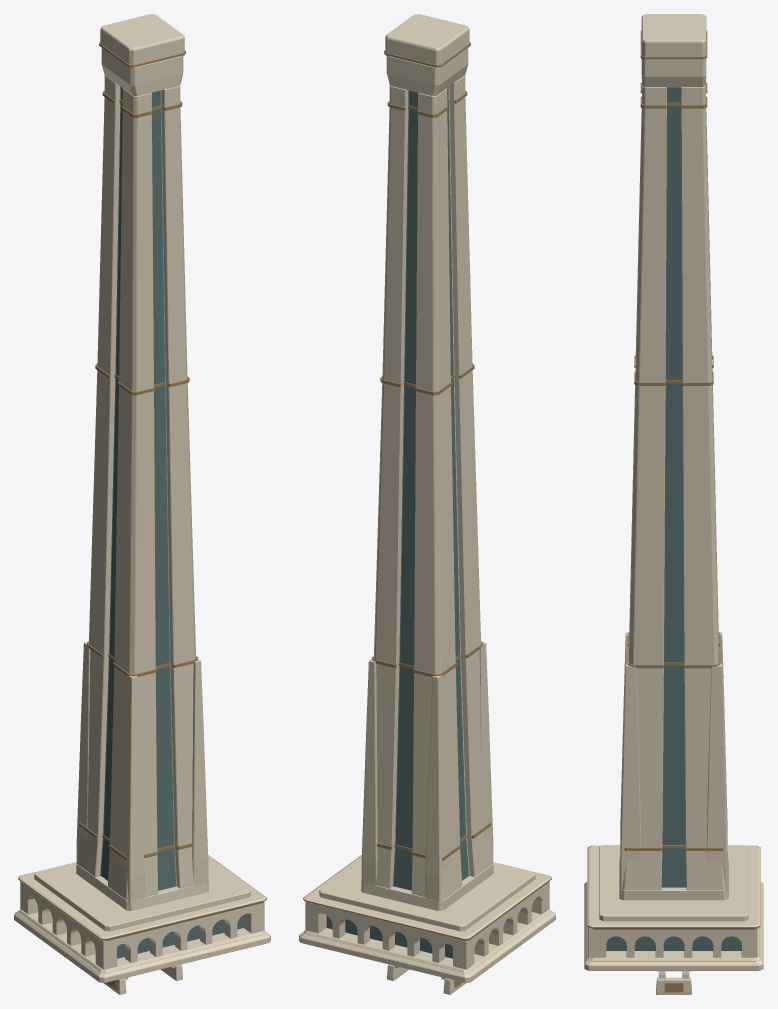
File: sunvault-civic-works.glb
3 renders of one model, left to right at view 1: azimuth 30°, elevation 25°; view 2: azimuth 150°, elevation 25°; view 3: azimuth 270°, elevation 25°, orthographic.
Parts seen in each view (by area): view 1: anchor_pier__WarmLimestone, arrival_terrace__WarmLimestone, anchor_pier__coolrecess, anchor_pier__agedbronze, arrival_terrace__coolrecess; view 2: anchor_pier__WarmLimestone, arrival_terrace__WarmLimestone, anchor_pier__coolrecess, anchor_pier__agedbronze, arrival_terrace__coolrecess; view 3: anchor_pier__WarmLimestone, arrival_terrace__WarmLimestone, anchor_pier__coolrecess, anchor_pier__agedbronze, arrival_terrace__coolrecess, load_cradle__WarmLimestone, arrival_terrace__agedbronze.
Part boxes in pixels (x1,y1,x2,y2): anchor_pier__WarmLimestone: (76,14,208,910); arrival_terrace__WarmLimestone: (14,855,270,982); anchor_pier__coolrecess: (100,86,176,890); anchor_pier__agedbronze: (78,42,198,860); arrival_terrace__coolrecess: (66,915,243,958); anchor_pier__WarmLimestone: (361,14,493,910); arrival_terrace__WarmLimestone: (299,855,555,982); anchor_pier__coolrecess: (393,87,468,890); anchor_pier__agedbronze: (371,42,491,860); arrival_terrace__coolrecess: (326,915,503,958); anchor_pier__WarmLimestone: (619,14,728,900); arrival_terrace__WarmLimestone: (584,845,763,970); anchor_pier__coolrecess: (661,87,685,887); anchor_pier__agedbronze: (624,30,723,850); arrival_terrace__coolrecess: (606,936,741,950); load_cradle__WarmLimestone: (656,971,691,994); arrival_terrace__agedbronze: (587,845,760,928).
Bounding box in the file's own units: 200 × 1056 × 180.
